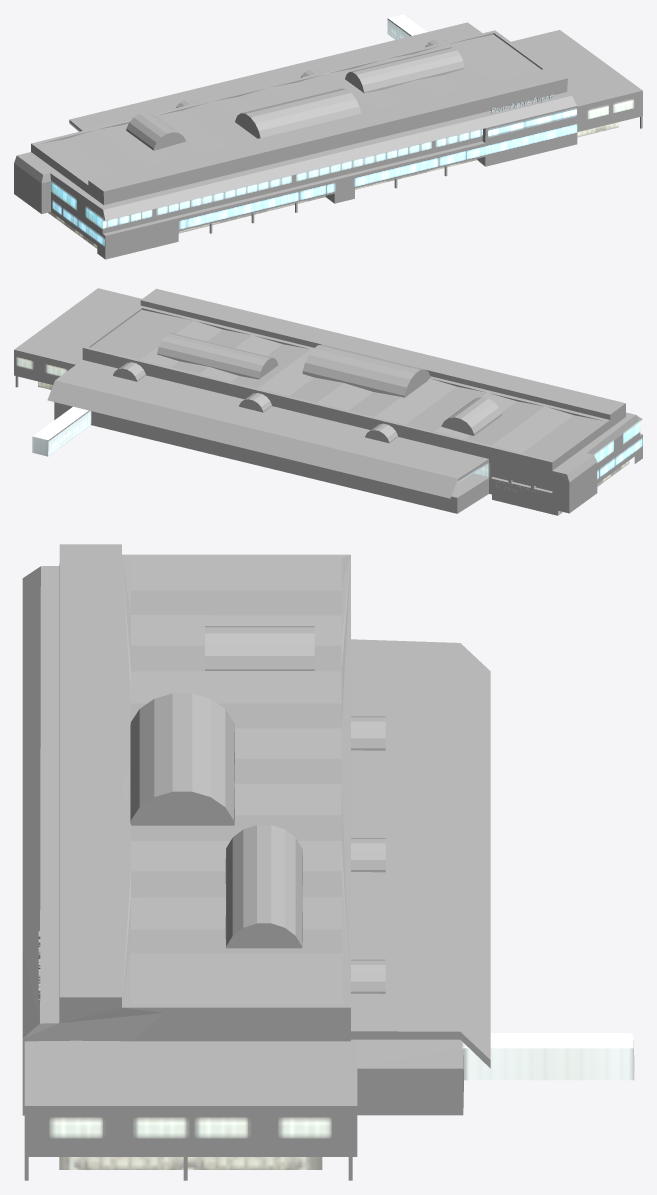
File: TERMINAL_REDO.gltf
3 views of the same model, one above another, from view 1: azimuth 30°, elevation 25°; view 2: azimuth 150°, elevation 25°; view 3: azimuth 270°, elevation 25° (orthographic). The views are drawn at different scales.
Visible parts, largest first — view 1: node1; view 2: node1; view 3: node1.
Part boxes in pixels (box(x1,y1,x2,y2)): node1: box(14, 14, 642, 259); node1: box(14, 288, 642, 515); node1: box(22, 544, 634, 1180).
Bounding box in the file's own units: 224 × 28.28 × 109.
